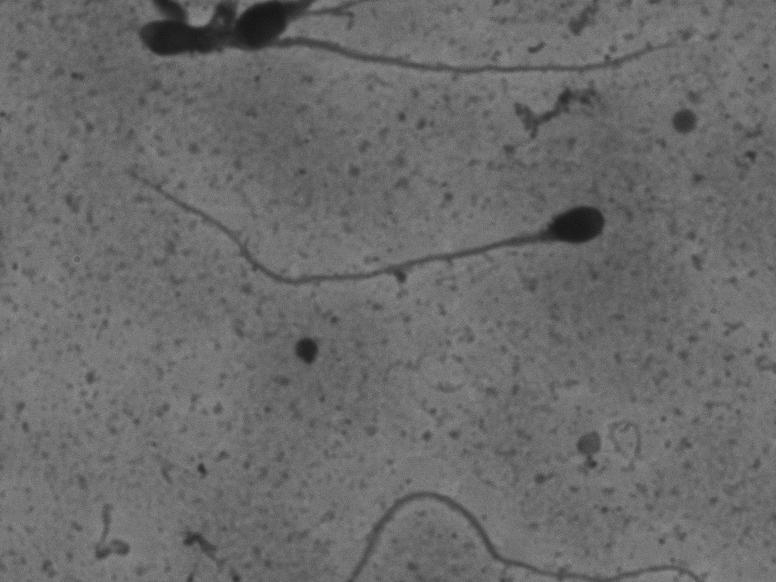Normal: (116, 112, 613, 307)
